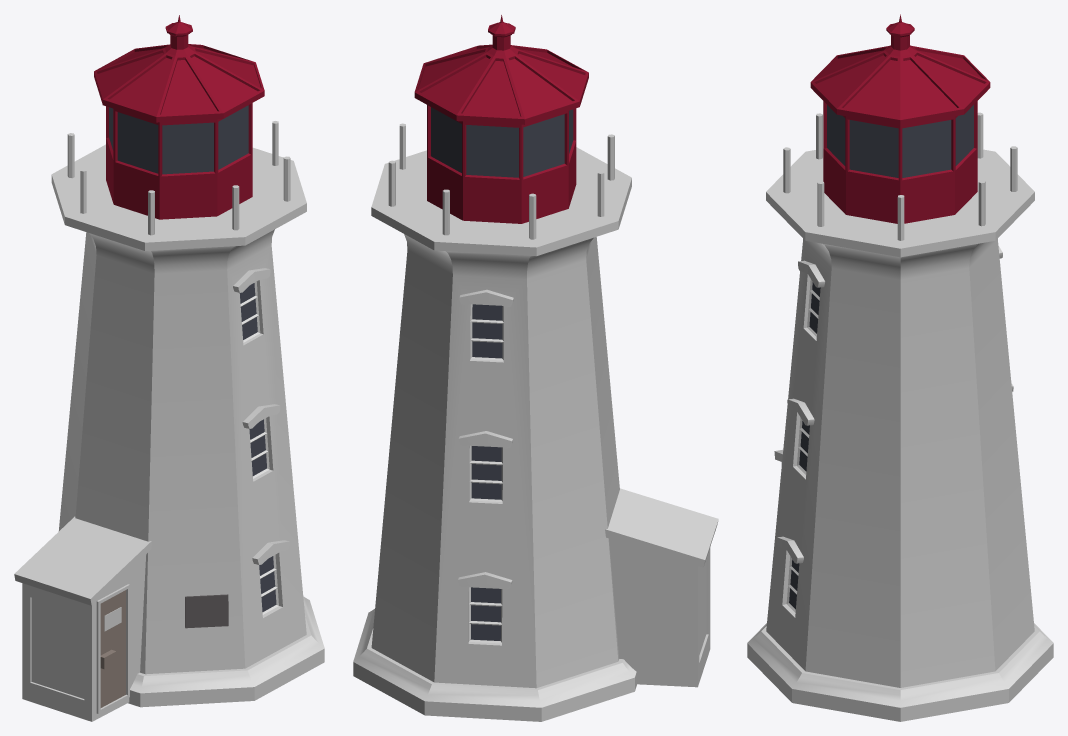
The model's file is LightHouse.fbx.
3 renders of one model, left to right at view 1: azimuth 30°, elevation 25°; view 2: azimuth 150°, elevation 25°; view 3: azimuth 270°, elevation 25°, orthographic. The views are drawn at different scales.
Parts seen in each view (by area): view 1: LightHouse_LOD0; view 2: LightHouse_LOD0; view 3: LightHouse_LOD0.
Part boxes in pixels (x1,y1,x2,y2): LightHouse_LOD0: (14, 15, 324, 721); LightHouse_LOD0: (353, 15, 718, 721); LightHouse_LOD0: (747, 14, 1053, 721).
Size of what is drawn, in the model's own units: 5.89 by 11.37 by 4.91.
